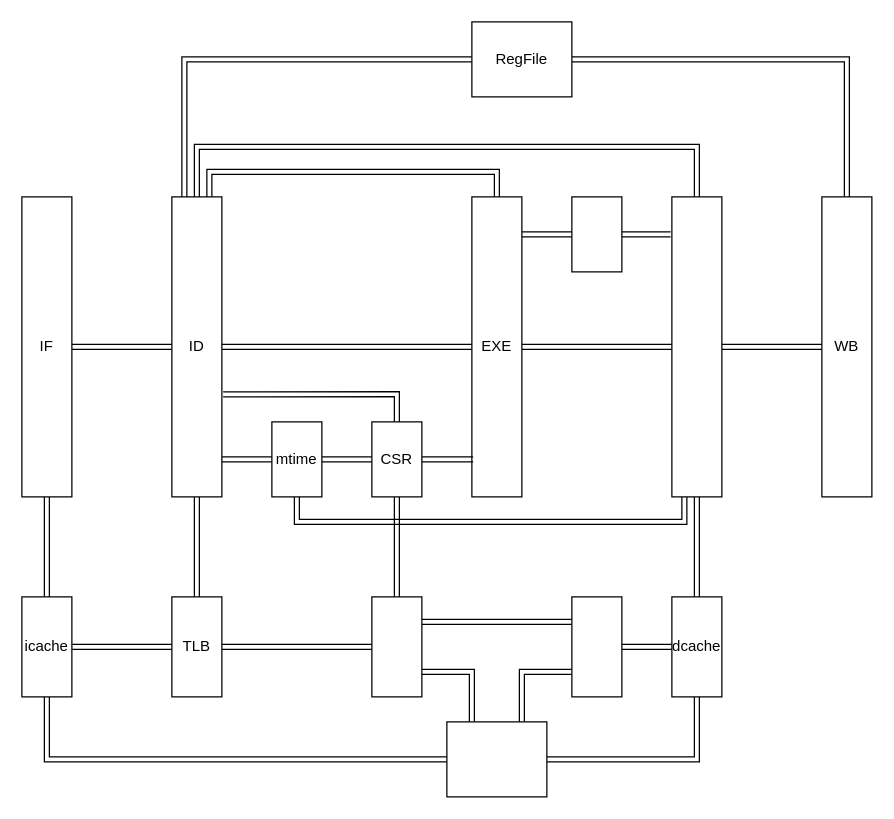
Image size: 894x819. Some labels were removed from this diagram. Each missing label, with the centre of its shape:
ALU: (596,234)
Arbiter: (496,759)
MEM: (696,346)
MMU: (396,646)
MUX: (596,646)
